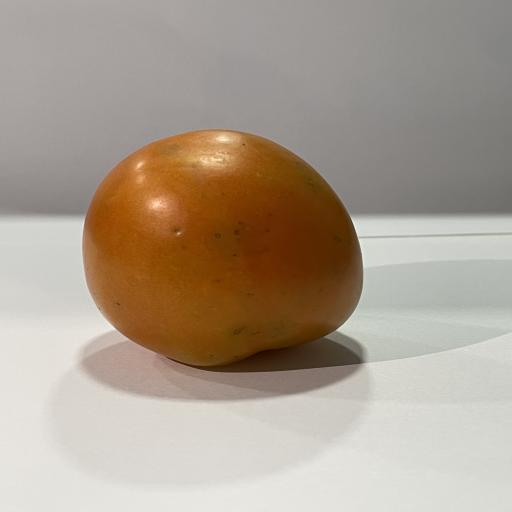unripe: (83, 130, 362, 366)
